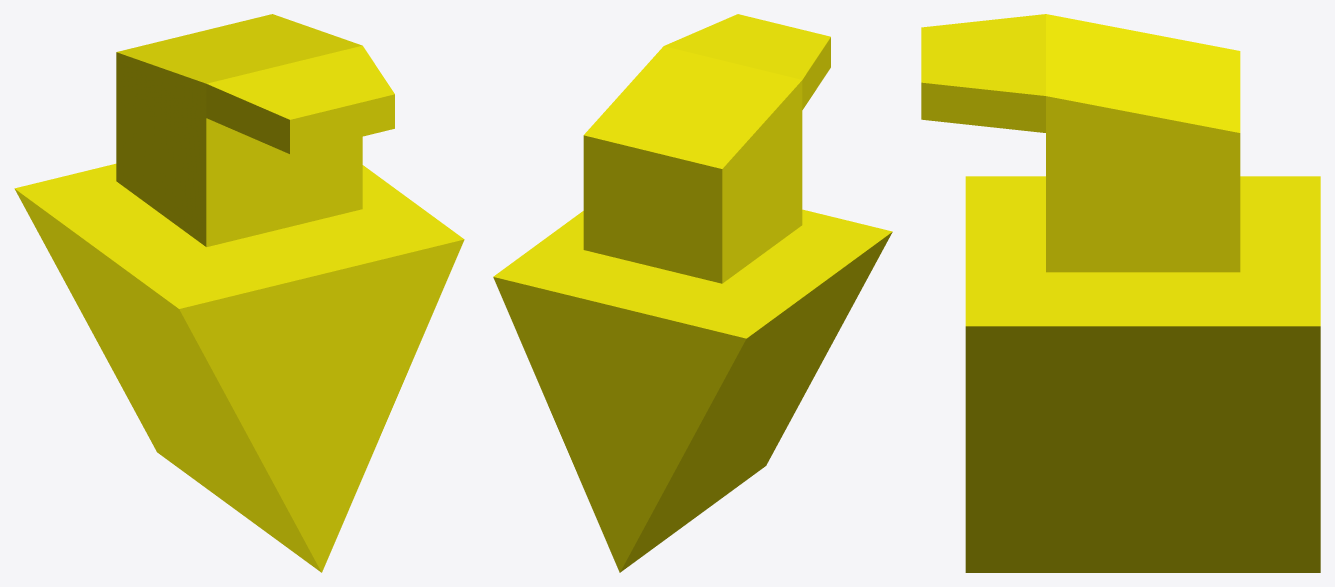
Rendered from player.dae.
3 views of the same model, side by side, from view 1: azimuth 30°, elevation 25°; view 2: azimuth 150°, elevation 25°; view 3: azimuth 270°, elevation 25° (orthographic). The views are drawn at different scales.
Visible parts, largest first — view 1: Cube; view 2: Cube; view 3: Cube.
Boxes of the visible parts, left/top/right/bottom form: Cube: left=14, top=14, right=464, bottom=572; Cube: left=493, top=14, right=892, bottom=572; Cube: left=921, top=14, right=1320, bottom=572.
Size of the model in its own units: 10 by 11.25 by 16.1.
Materials: 1 (1 with a texture image).
